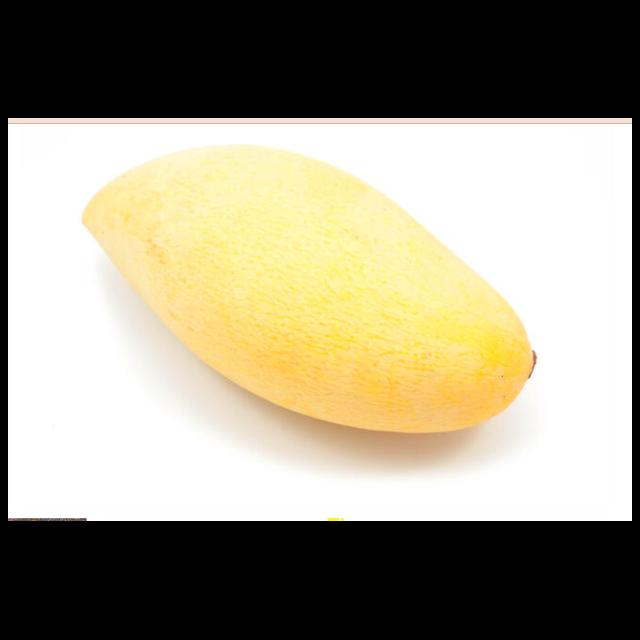mango: (77, 140, 539, 438)
